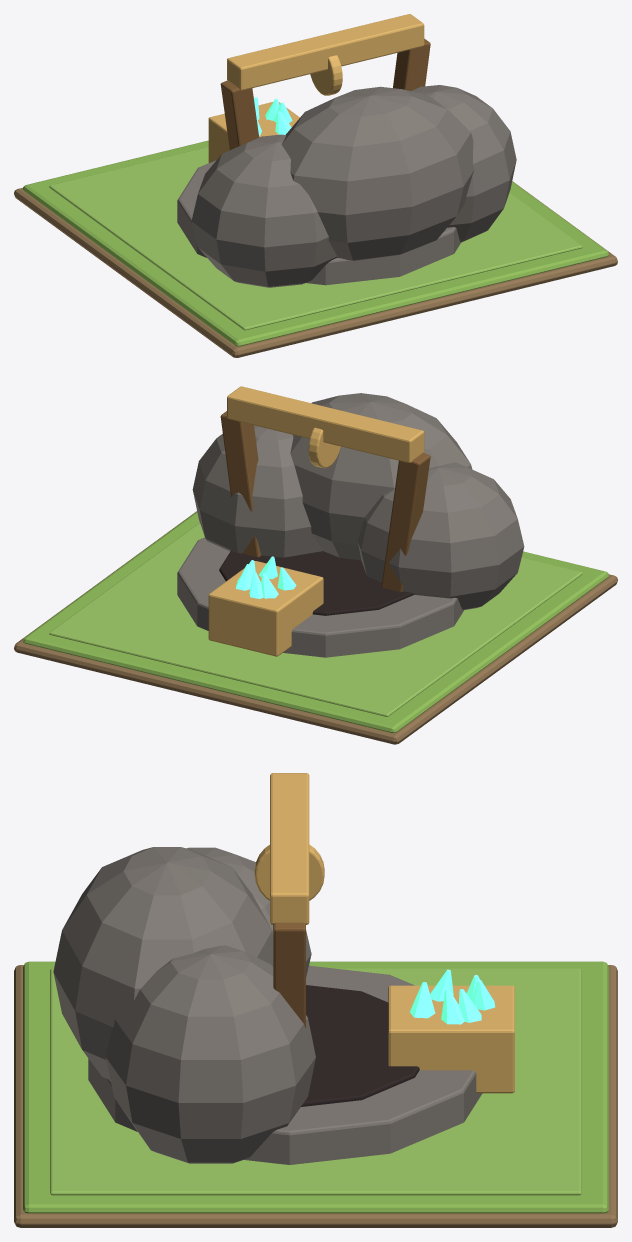
Rendered from gem_mine_lv4.glb.
3 views of the same model, one above another, from view 1: azimuth 30°, elevation 25°; view 2: azimuth 150°, elevation 25°; view 3: azimuth 270°, elevation 25° (orthographic). The views are drawn at different scales.
Parts seen in each view (by area): view 1: GemRock_2, Base_Inner, GemRock_0, Base_Grass, Base_Dirt, GemHoistBeam, GemRock_1, QuarryPitRim, GemHoistPost_-1, GemCartBody, GemHoistPost_1, GemPulley; view 2: Base_Inner, GemRock_0, Base_Grass, GemRock_2, GemRock_1, QuarryPitRim, Base_Dirt, GemHoistBeam, GemCartBody, QuarryPitHole, GemHoistPost_-1, GemHoistPost_1 (+1 smaller); view 3: Base_Inner, GemRock_1, Base_Grass, GemRock_2, QuarryPitRim, Base_Dirt, GemCartBody, QuarryPitHole, GemHoistBeam, GemHoistPost_1, GemRock_0, GemPulley.
Part boxes in pixels (left/top/right/bottom): GemRock_2: left=281, top=86, right=474, bottom=260; Base_Inner: left=49, top=147, right=582, bottom=330; GemRock_0: left=191, top=134, right=337, bottom=287; Base_Grass: left=23, top=140, right=608, bottom=346; Base_Dirt: left=14, top=181, right=617, bottom=357; GemHoistBeam: left=227, top=14, right=424, bottom=90; GemRock_1: left=411, top=85, right=516, bottom=242; QuarryPitRim: left=177, top=160, right=460, bottom=285; GemHoistPost_-1: left=220, top=80, right=259, bottom=149; GemCartBody: left=208, top=102, right=299, bottom=162; GemHoistPost_1: left=393, top=38, right=430, bottom=91; GemPulley: left=310, top=55, right=342, bottom=95; Base_Inner: left=49, top=522, right=582, bottom=716; GemRock_0: left=357, top=462, right=524, bottom=609; Base_Grass: left=23, top=511, right=608, bottom=732; GemRock_2: left=290, top=393, right=472, bottom=560; GemRock_1: left=192, top=425, right=322, bottom=557; QuarryPitRim: left=177, top=537, right=464, bottom=657; Base_Dirt: left=14, top=511, right=617, bottom=744; GemHoistBeam: left=227, top=386, right=424, bottom=462; GemCartBody: left=208, top=561, right=323, bottom=656; QuarryPitHole: left=219, top=550, right=413, bottom=615; GemHoistPost_-1: left=381, top=452, right=430, bottom=591; GemHoistPost_1: left=220, top=411, right=261, bottom=557; Base_Inner: left=50, top=968, right=581, bottom=1195; GemRock_1: left=106, top=945, right=315, bottom=1163; Base_Grass: left=23, top=961, right=608, bottom=1213; GemRock_2: left=53, top=847, right=273, bottom=1079; QuarryPitRim: left=88, top=965, right=482, bottom=1164; Base_Dirt: left=14, top=965, right=617, bottom=1227; GemCartBody: left=388, top=985, right=514, bottom=1093; QuarryPitHole: left=301, top=985, right=419, bottom=1106; GemHoistBeam: left=270, top=773, right=309, bottom=924; GemHoistPost_1: left=273, top=922, right=305, bottom=1028; GemRock_0: left=186, top=847, right=311, bottom=977; GemPulley: left=254, top=844, right=324, bottom=900.
Bounding box in the file's own units: 2.76 × 1.38 × 2.76.
